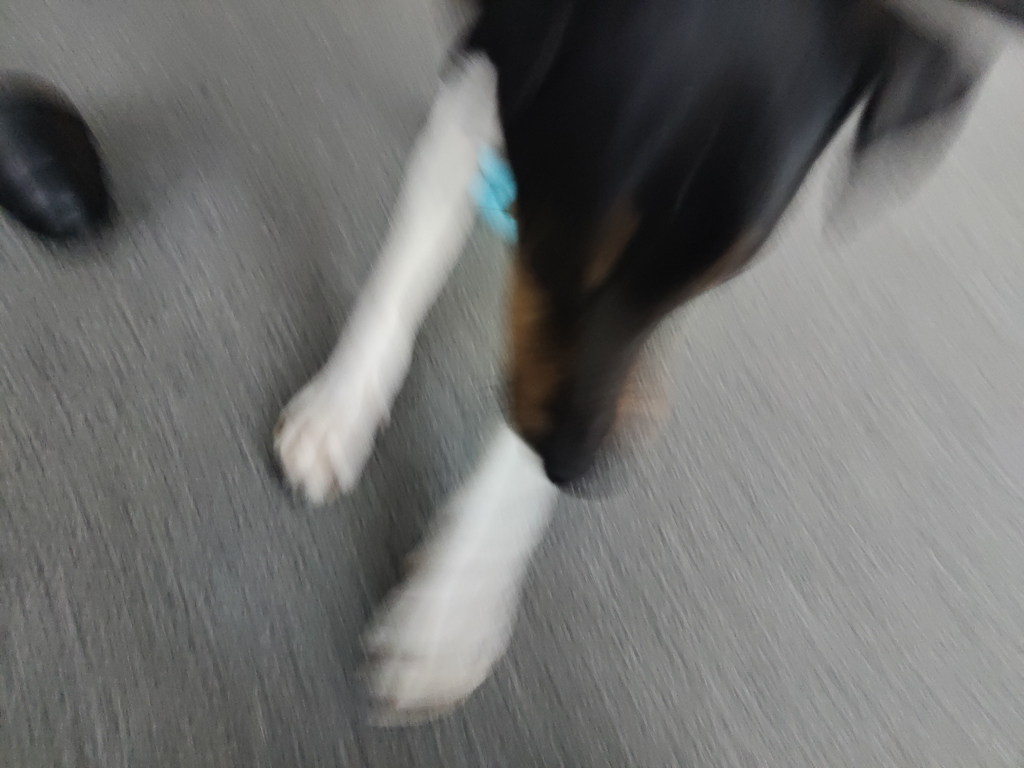Dog: (226, 0, 1024, 743)
